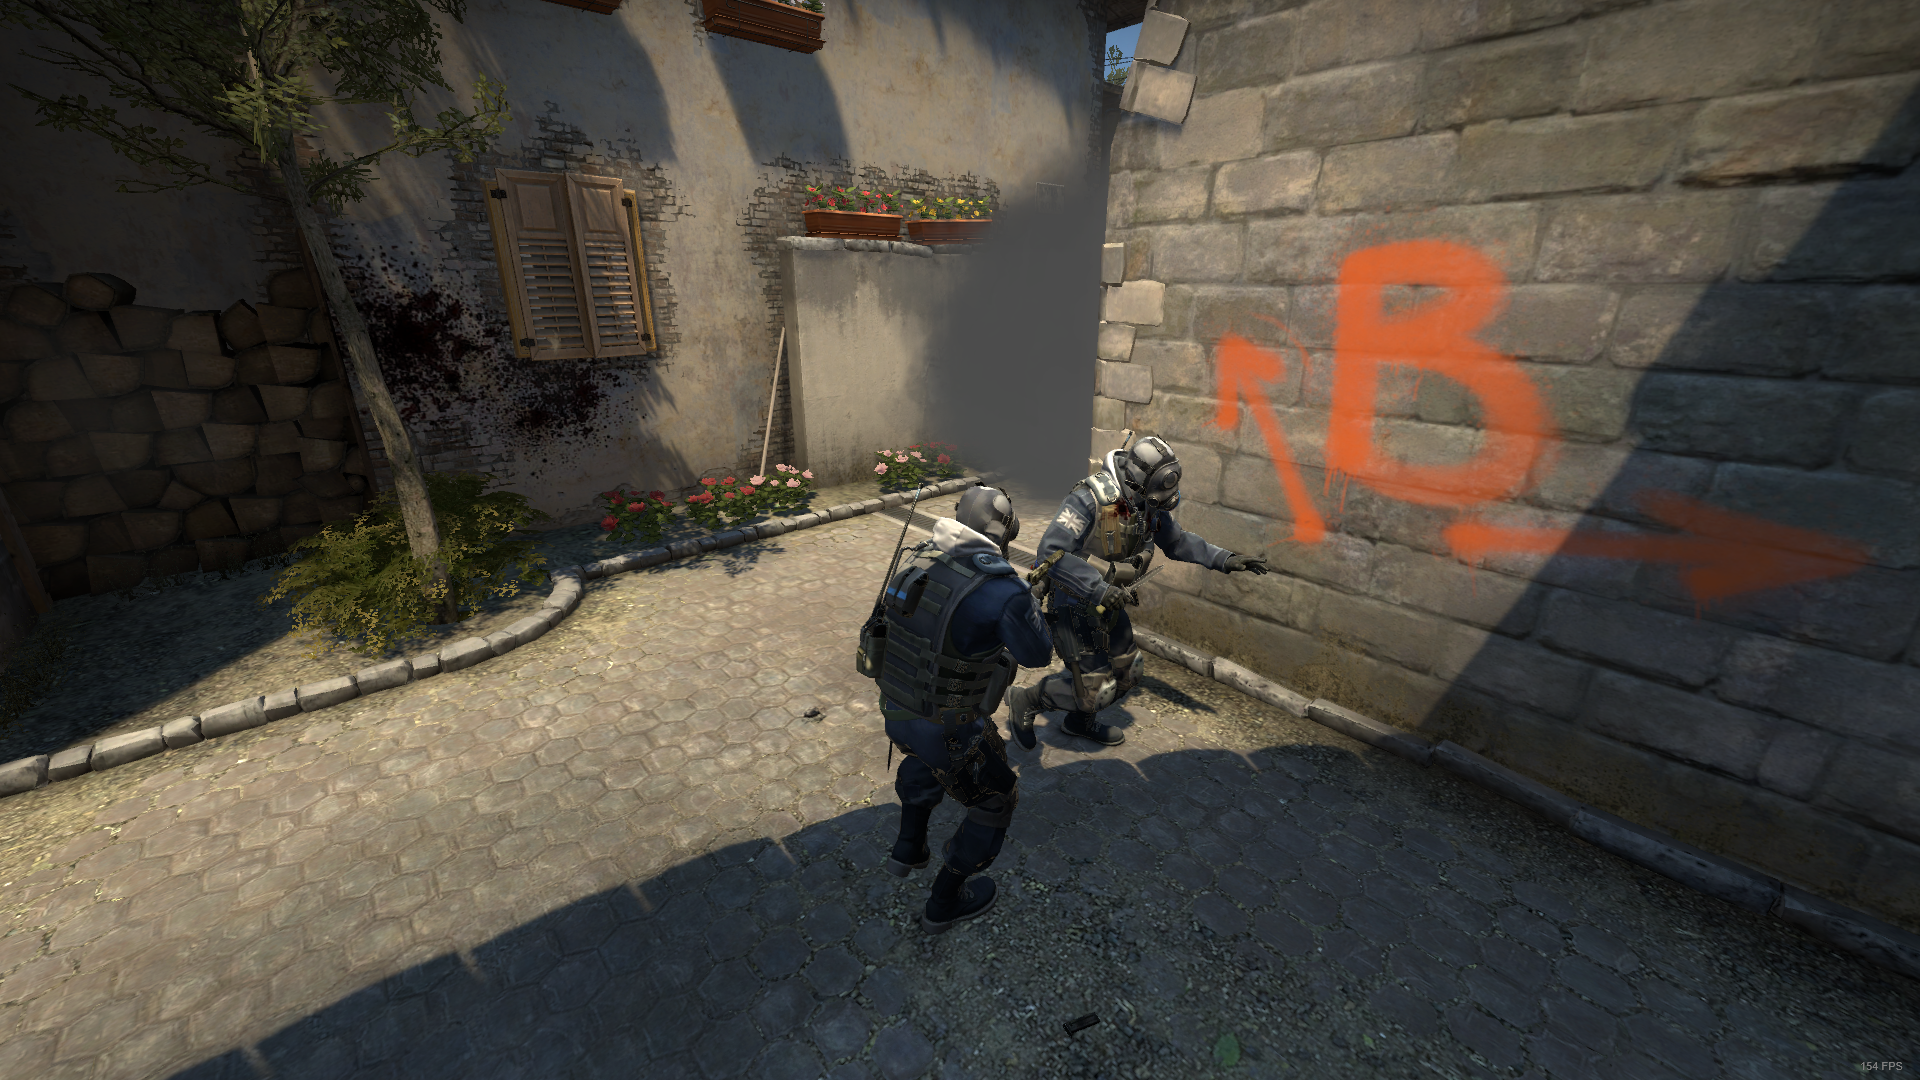ct: (855, 481, 1051, 931), (1005, 435, 1270, 766)
